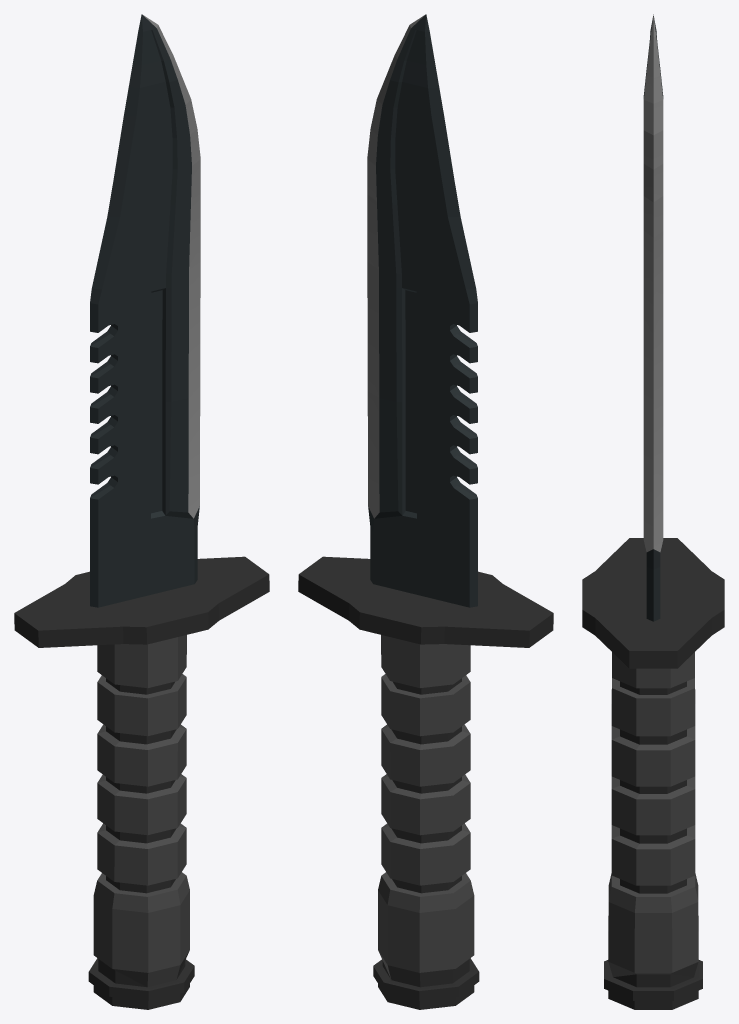
The model's file is CombatKnifeV1.glb.
3 views of the same model, side by side, from view 1: azimuth 30°, elevation 25°; view 2: azimuth 150°, elevation 25°; view 3: azimuth 270°, elevation 25° (orthographic).
Visible parts, largest first — view 1: CombatKnifeV1; view 2: CombatKnifeV1; view 3: CombatKnifeV1.
Boxes of the visible parts, box(x1,y1,x2,y2) form: CombatKnifeV1: box(14, 14, 269, 1009); CombatKnifeV1: box(298, 14, 553, 1009); CombatKnifeV1: box(582, 14, 724, 1009).
Size of the model in its own units: 0.074 by 0.298 by 0.0394.
1 material, 1 textured.
